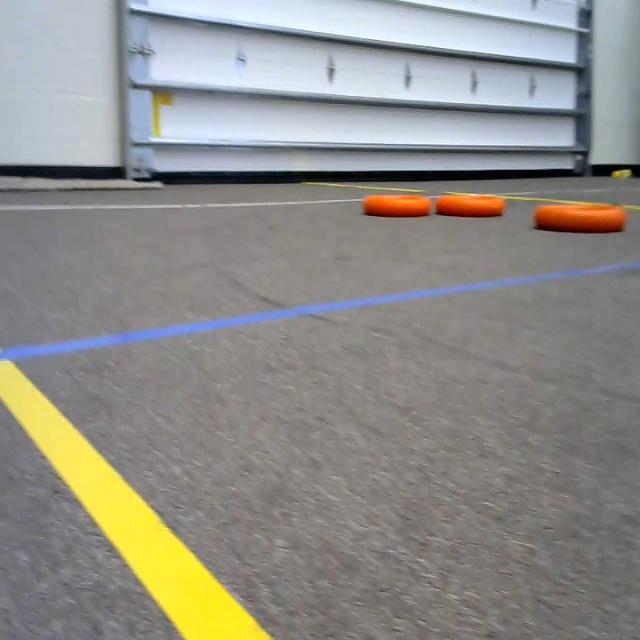note: (532, 193, 636, 240), (360, 179, 432, 225), (438, 186, 514, 223)
